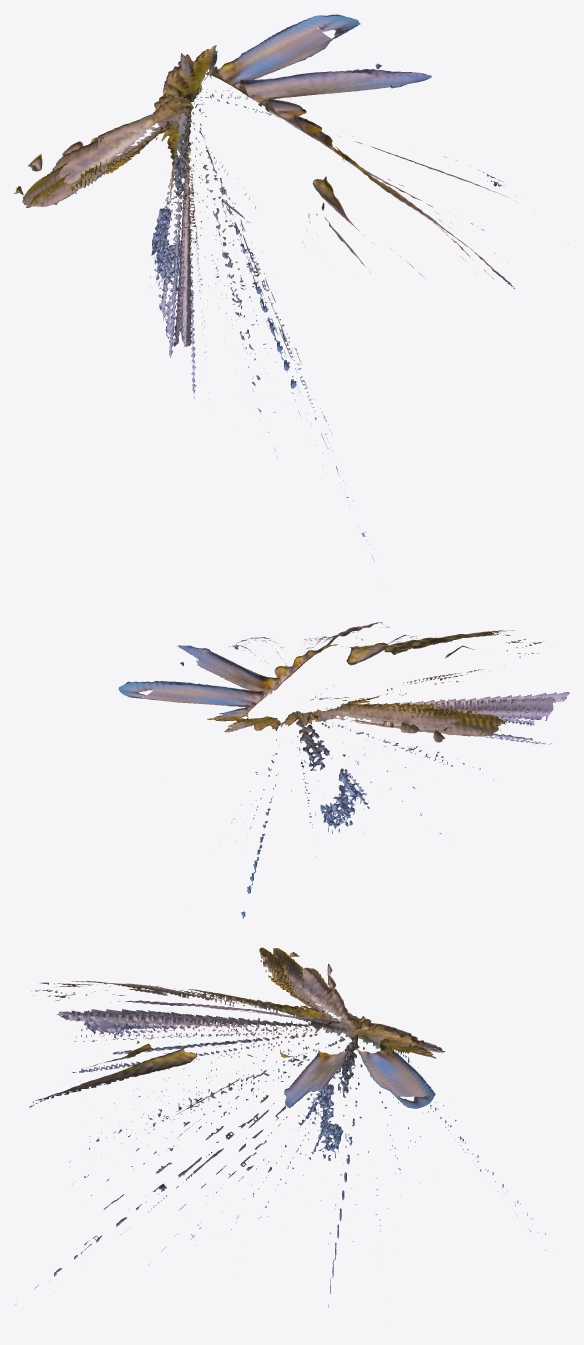
Rendered from paris-collider.glb.
3 renders of one model, top to bottom at view 1: azimuth 30°, elevation 25°; view 2: azimuth 150°, elevation 25°; view 3: azimuth 270°, elevation 25°, orthographic. The views are drawn at different scales.
Parts seen in each view (by area): view 1: world; view 2: world; view 3: world.
Part boxes in pixels (x1,y1,x2,y2): world: (14,14,568,589); world: (118,622,569,918); world: (14,947,545,1307).
Bounding box in the file's own units: 107 × 76.52 × 132.
